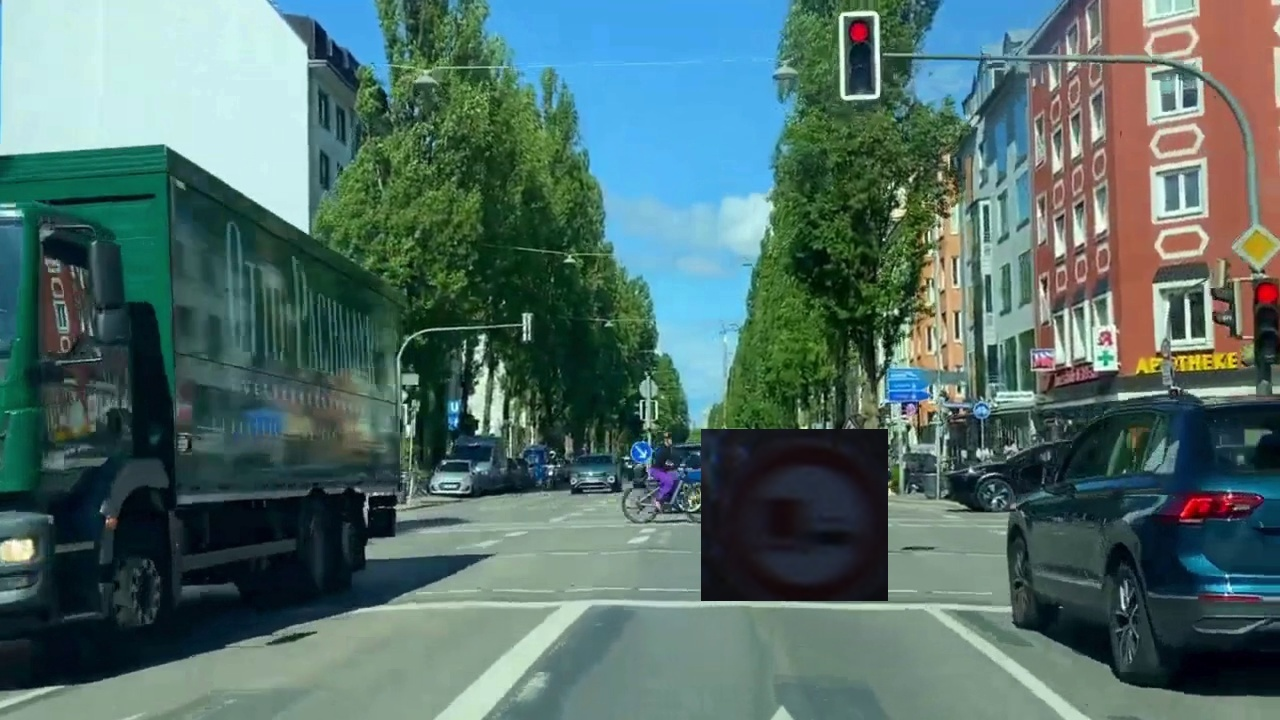No pass >3.5t: (701, 429, 888, 601)
